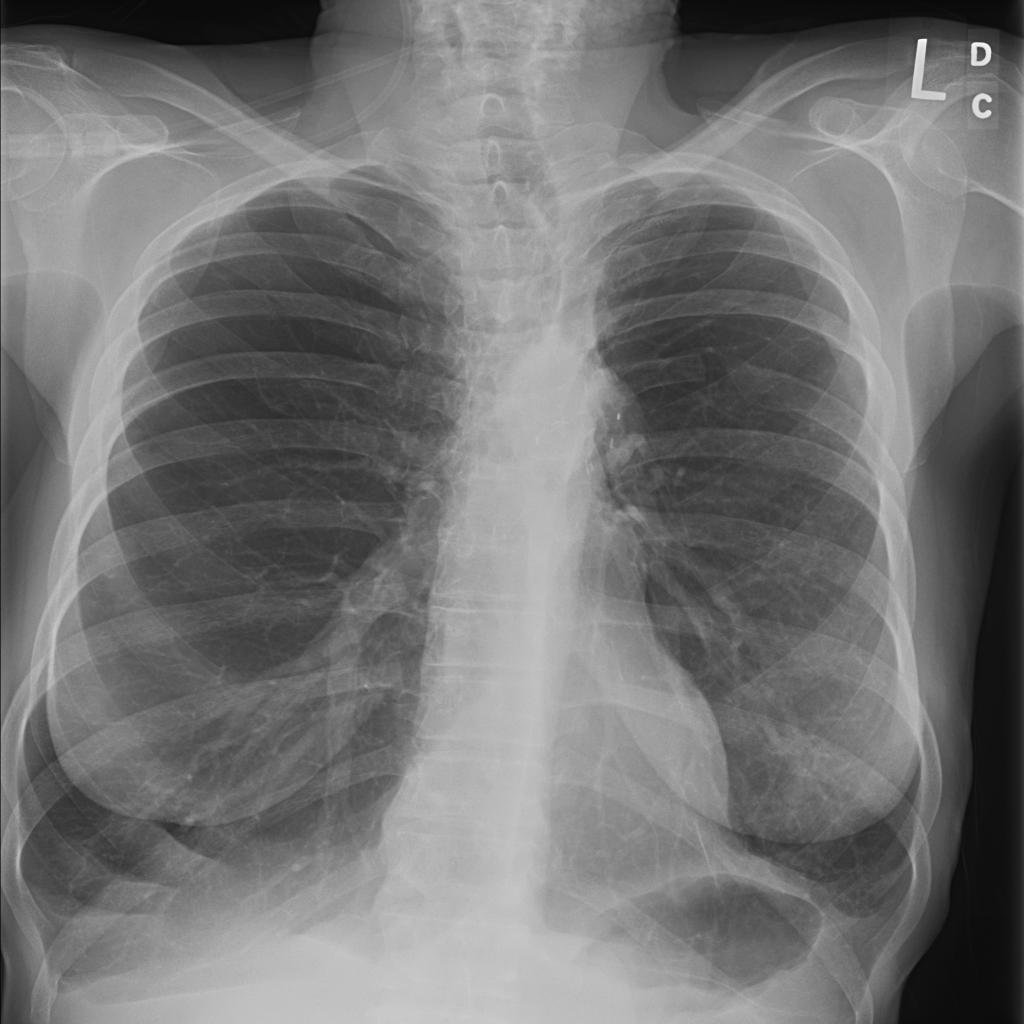Nodule: (99, 257, 147, 290), (222, 132, 260, 163), (63, 209, 101, 235)
